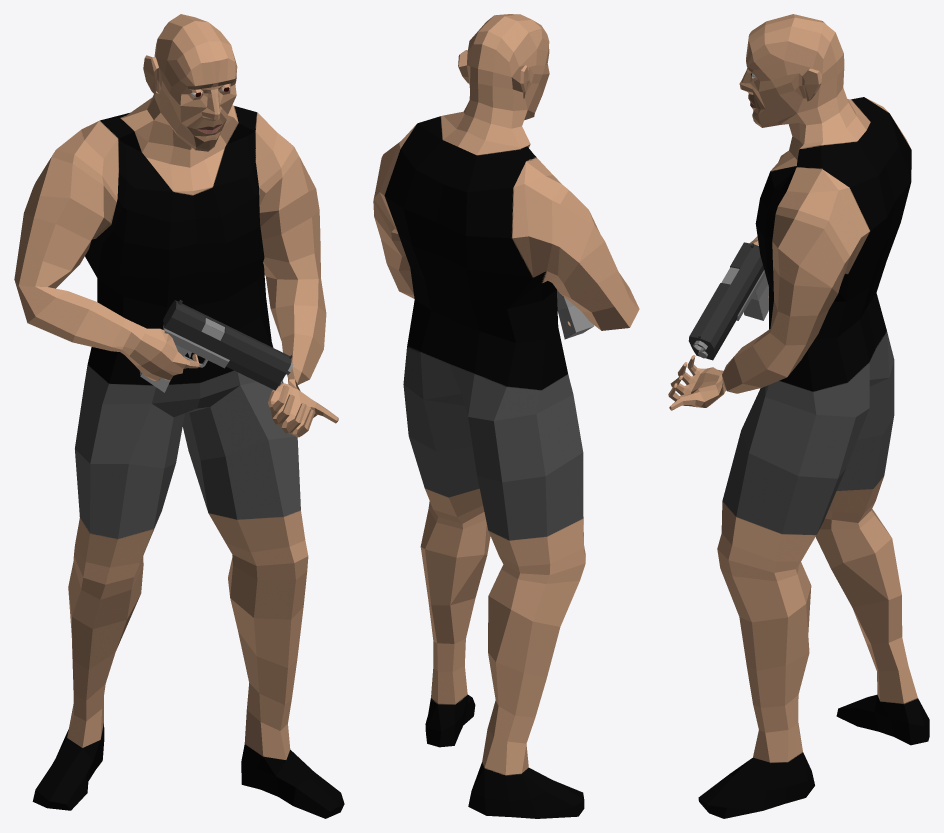
The model's file is PlayerIdle(72).obj.
3 renders of one model, left to right at view 1: azimuth 30°, elevation 25°; view 2: azimuth 150°, elevation 25°; view 3: azimuth 270°, elevation 25°, orthographic. The views are drawn at different scales.
Visible parts, largest first — view 1: Plane002, Box003; view 2: Plane002, Box003; view 3: Plane002, Box003.
Part boxes in pixels (x1=…): Plane002: x1=14, y1=14, x2=344, y2=818; Box003: x1=139, y1=300, x2=293, y2=392; Plane002: x1=373, y1=14, x2=639, y2=818; Box003: x1=557, y1=290, x2=594, y2=339; Plane002: x1=668, y1=14, x2=929, y2=818; Box003: x1=688, y1=242, x2=768, y2=360.
Size of the model in its own units: 669 by 1799 by 570.
